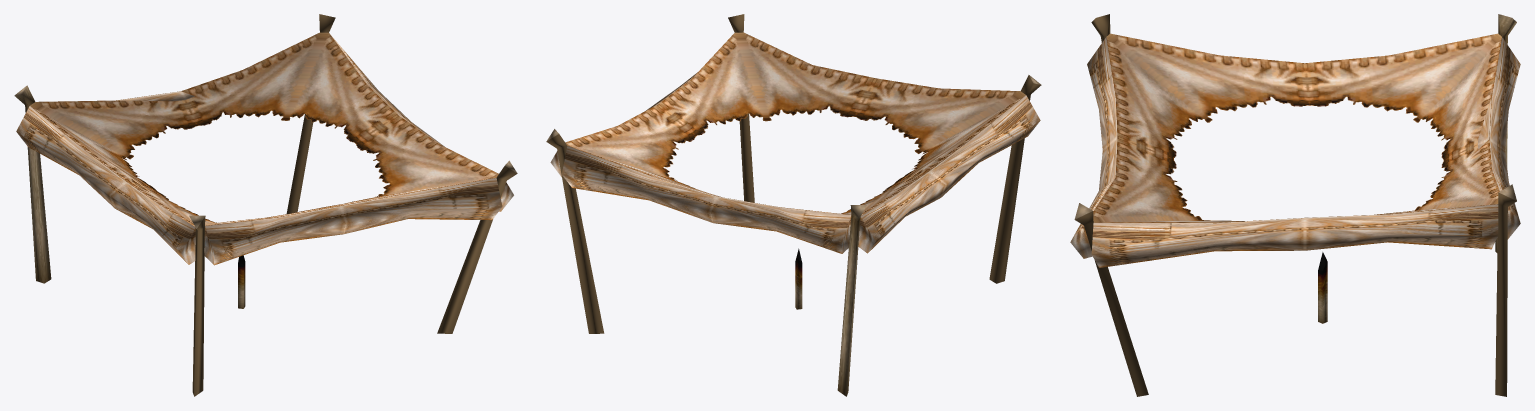
File: excavationtentpavillionruined01.obj
3 views of the same model, side by side, from view 1: azimuth 30°, elevation 25°; view 2: azimuth 150°, elevation 25°; view 3: azimuth 270°, elevation 25° (orthographic). The views are drawn at different scales.
Visible parts, largest first — view 1: EXCAVATIONTENTPAVILLIONRUINED012, EXCAVATIONTENTPAVILLIONRUINED011, EXCAVATIONTENTPAVILLIONRUINED010; view 2: EXCAVATIONTENTPAVILLIONRUINED012, EXCAVATIONTENTPAVILLIONRUINED011, EXCAVATIONTENTPAVILLIONRUINED010; view 3: EXCAVATIONTENTPAVILLIONRUINED012, EXCAVATIONTENTPAVILLIONRUINED011, EXCAVATIONTENTPAVILLIONRUINED010.
Part boxes in pixels (bbox=[...]): EXCAVATIONTENTPAVILLIONRUINED012: bbox=[30, 32, 498, 308]; EXCAVATIONTENTPAVILLIONRUINED011: bbox=[16, 34, 513, 265]; EXCAVATIONTENTPAVILLIONRUINED010: bbox=[14, 14, 517, 396]; EXCAVATIONTENTPAVILLIONRUINED012: bbox=[565, 32, 1025, 309]; EXCAVATIONTENTPAVILLIONRUINED011: bbox=[550, 72, 1040, 253]; EXCAVATIONTENTPAVILLIONRUINED010: bbox=[546, 14, 1041, 396]; EXCAVATIONTENTPAVILLIONRUINED012: bbox=[1093, 33, 1501, 323]; EXCAVATIONTENTPAVILLIONRUINED011: bbox=[1070, 37, 1520, 267]; EXCAVATIONTENTPAVILLIONRUINED010: bbox=[1074, 14, 1516, 396].
Size of the model in its own units: 8.75 by 5.04 by 9.
3 materials, 3 textured.
